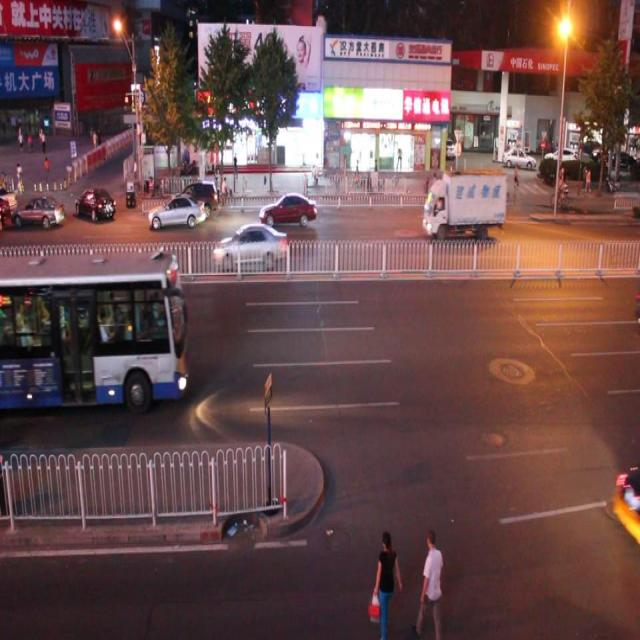bus: (422, 171, 505, 239)
car: (212, 220, 288, 270), (148, 193, 205, 231), (166, 178, 218, 218), (13, 192, 66, 231), (259, 192, 317, 226), (75, 186, 116, 222)
van: (1, 250, 188, 401)
